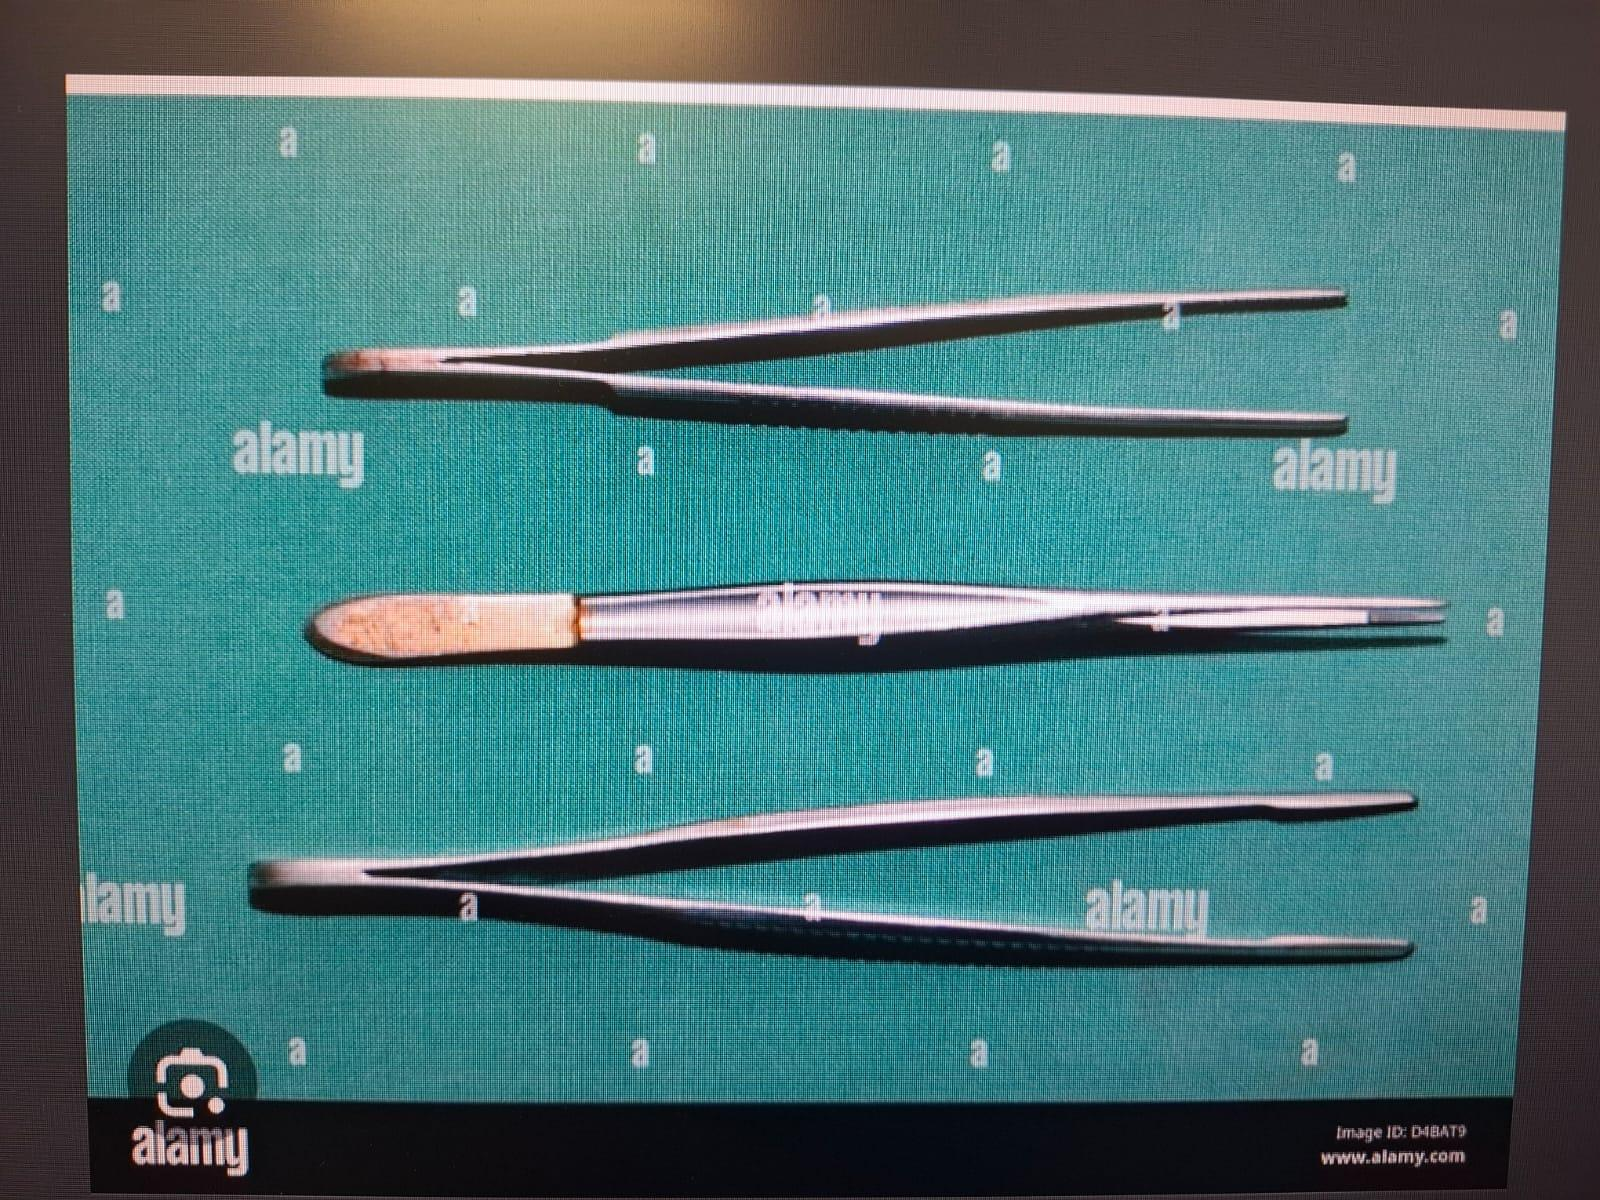Disscting Forceps: (226, 744, 1436, 986), (299, 262, 1382, 463), (286, 548, 1487, 696)
